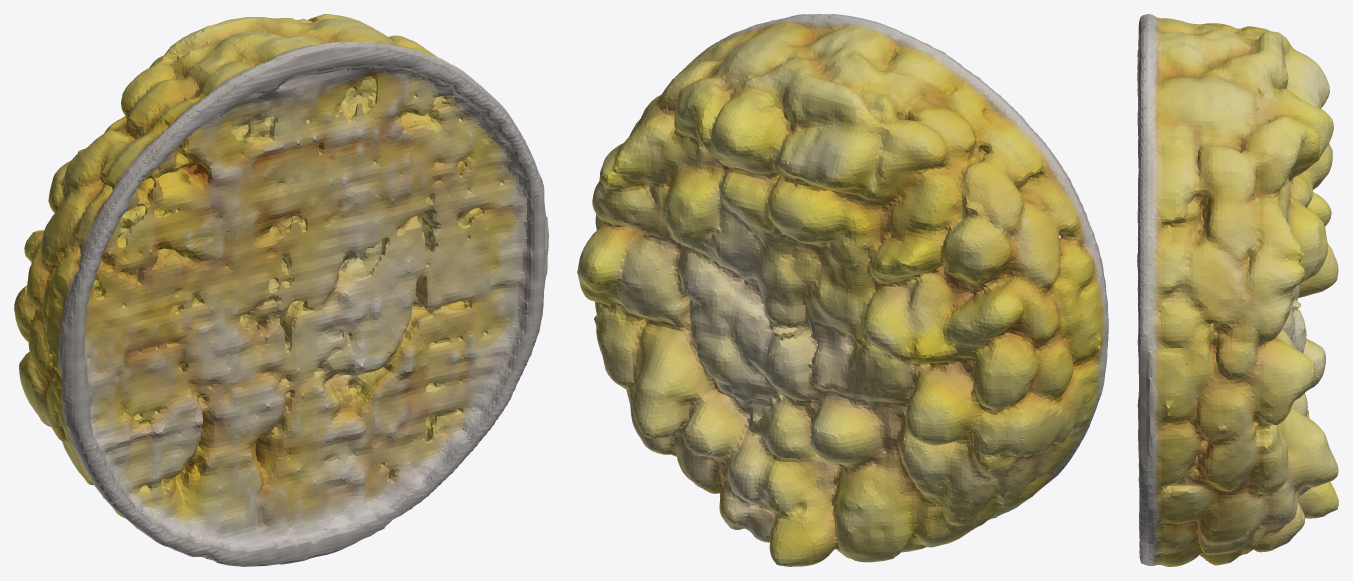
The picture shows the model from 3 angles, left to right: view 1: azimuth 30°, elevation 25°; view 2: azimuth 150°, elevation 25°; view 3: azimuth 270°, elevation 25°; orthographic projection.
Parts seen in each view (by area): view 1: geometry_0; view 2: geometry_0; view 3: geometry_0.
Part boxes in pixels (x1,y1,x2,y2): geometry_0: (14, 14, 548, 566); geometry_0: (577, 14, 1108, 566); geometry_0: (1137, 14, 1338, 566).
Bounding box in the file's own units: 1.97 × 1.95 × 0.7067.
